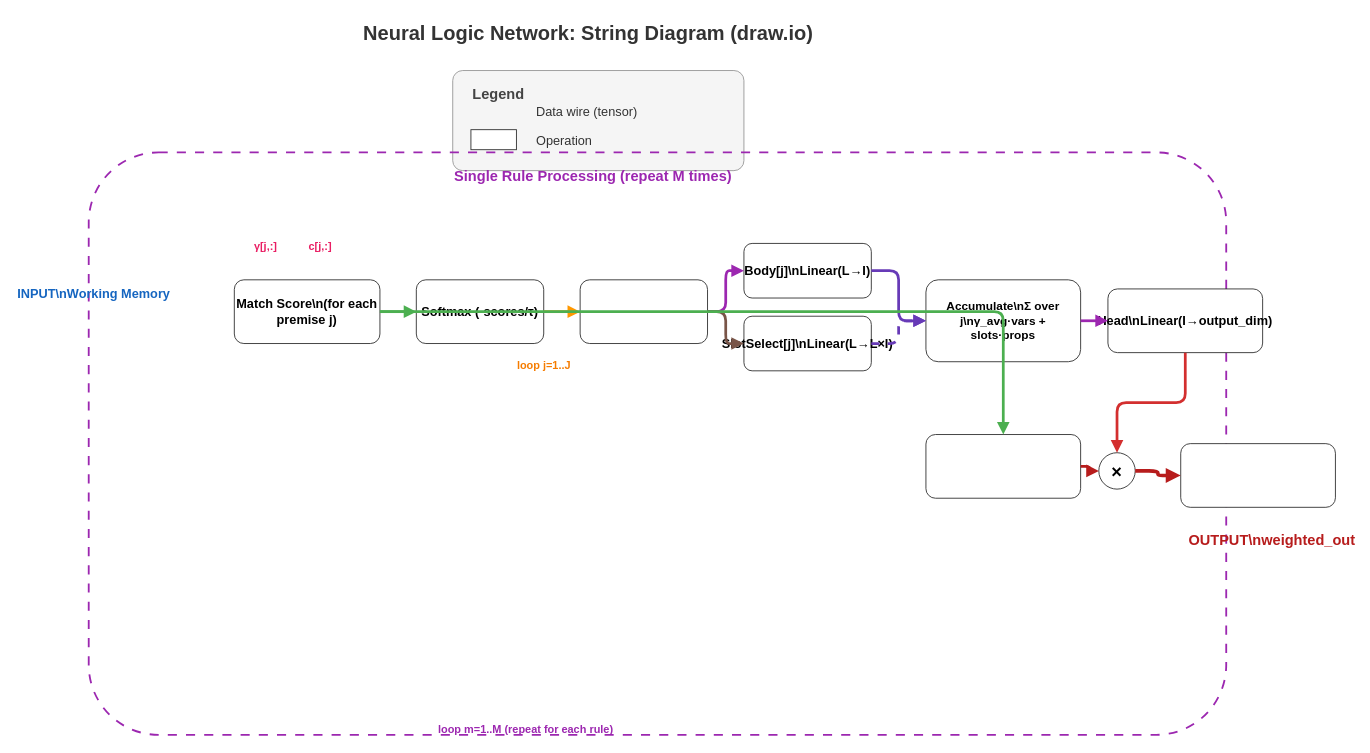
Image size: 1370x753. Some labels were removed from this diagram. The shapes that lost their labels are listed below. From the top down, each one's centre as x and y in pixels, then its label:
(643,311): Einsum bw,bwl→bl
(1003,466): Confidence\nexp(-match_quality)
(1257,475): Sum Rules\nΣ over m∈{1..M}
